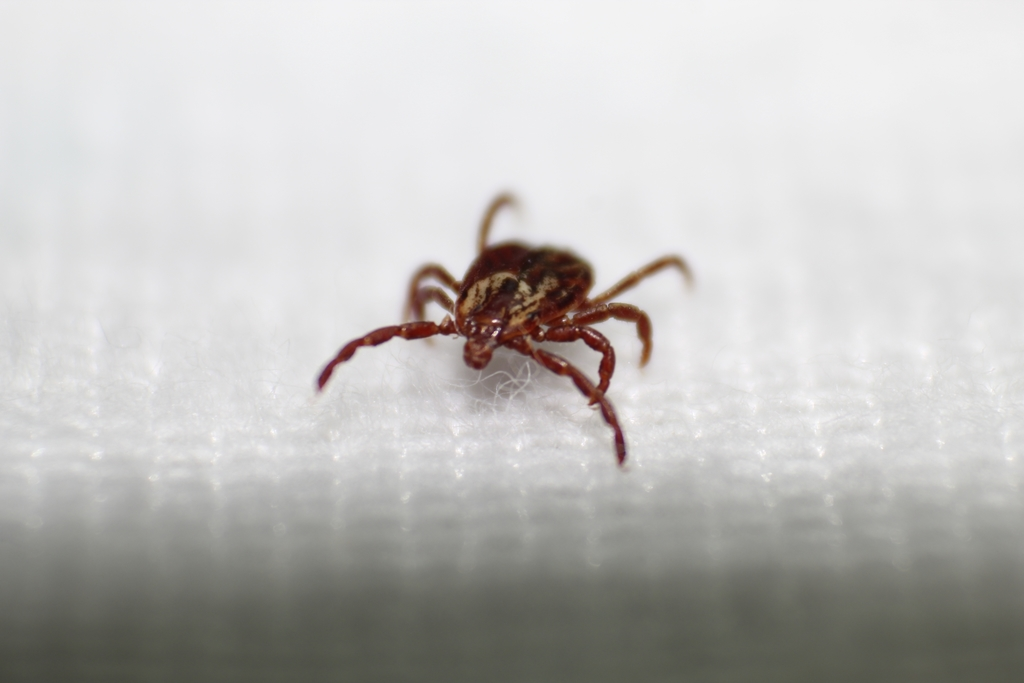garrapata: (249, 176, 774, 481)
